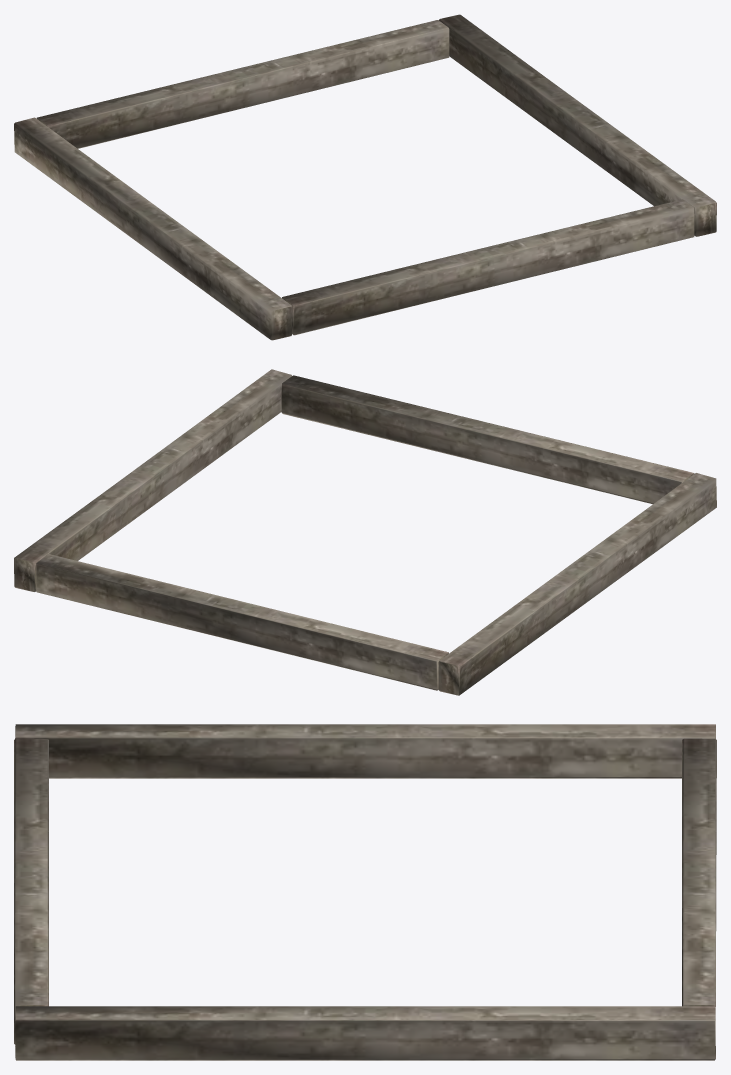
Rendered from floor.frame.brutalist.glb.
The picture shows the model from 3 angles, top to bottom: view 1: azimuth 30°, elevation 25°; view 2: azimuth 150°, elevation 25°; view 3: azimuth 270°, elevation 25°; orthographic projection. The views are drawn at different scales.
Parts seen in each view (by area): view 1: model; view 2: model; view 3: model.
Part boxes in pixels (bbox=[...]): model: bbox=[14, 14, 716, 340]; model: bbox=[14, 369, 716, 695]; model: bbox=[14, 724, 716, 1060].
Bounding box in the file's own units: 3 × 0.2 × 3.
Materials: 1 (1 with a texture image).
